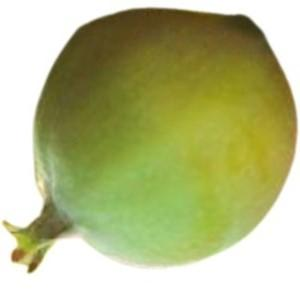fruit: (6, 11, 295, 273)
